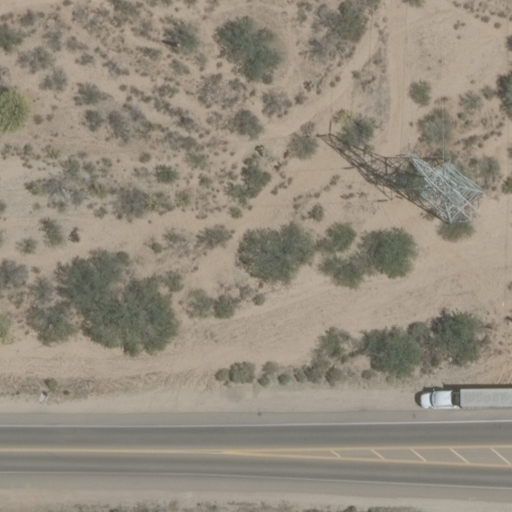TT: (386, 147, 489, 231)
